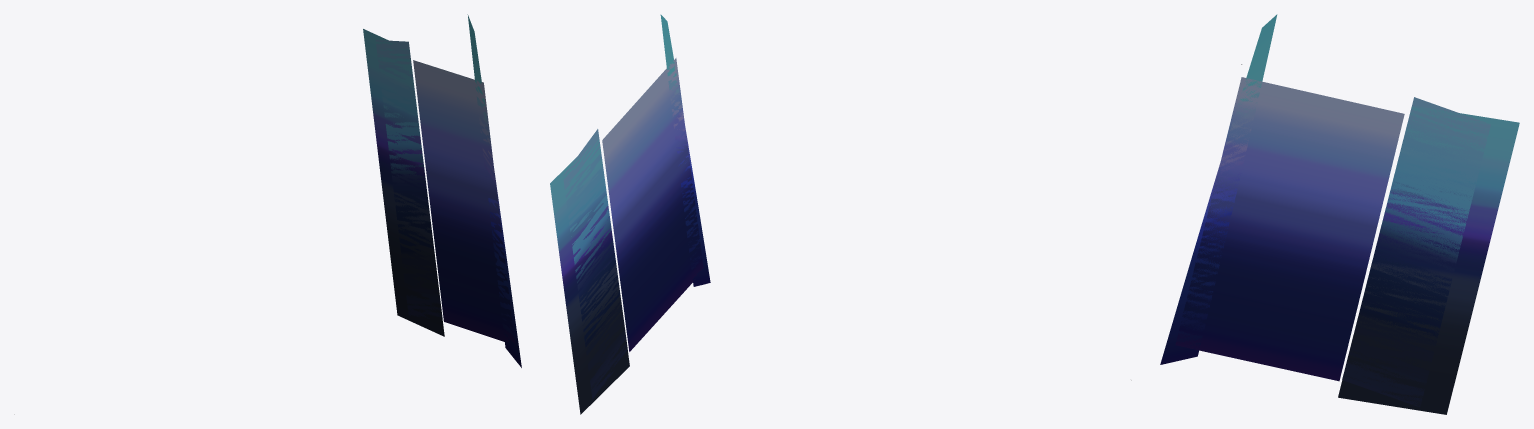
The model's file is gordey-miami-sea.fbx.
The picture shows the model from 3 angles, left to right: view 1: azimuth 30°, elevation 25°; view 2: azimuth 150°, elevation 25°; view 3: azimuth 270°, elevation 25°; orthographic projection. The views are drawn at different scales.
Parts seen in each view (by area): view 1: NewLayer12; view 2: NewLayer12; view 3: NewLayer12.
Boxes of the visible parts, x1,y1,x2,y2 form: NewLayer12: (363, 14, 521, 367); NewLayer12: (550, 14, 710, 414); NewLayer12: (1160, 14, 1519, 414).
Bounding box in the file's own units: 28775 × 20735 × 16996.
